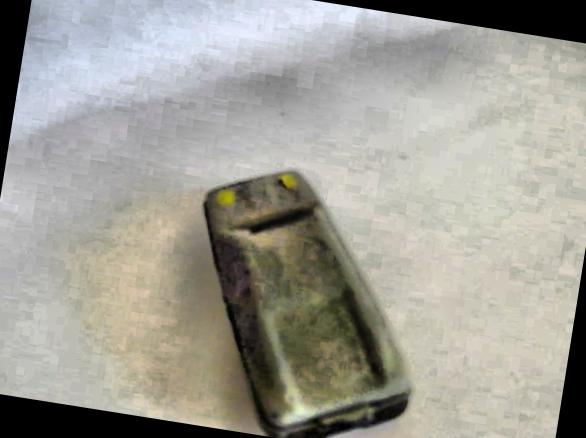normal_car: (154, 137, 450, 438)
